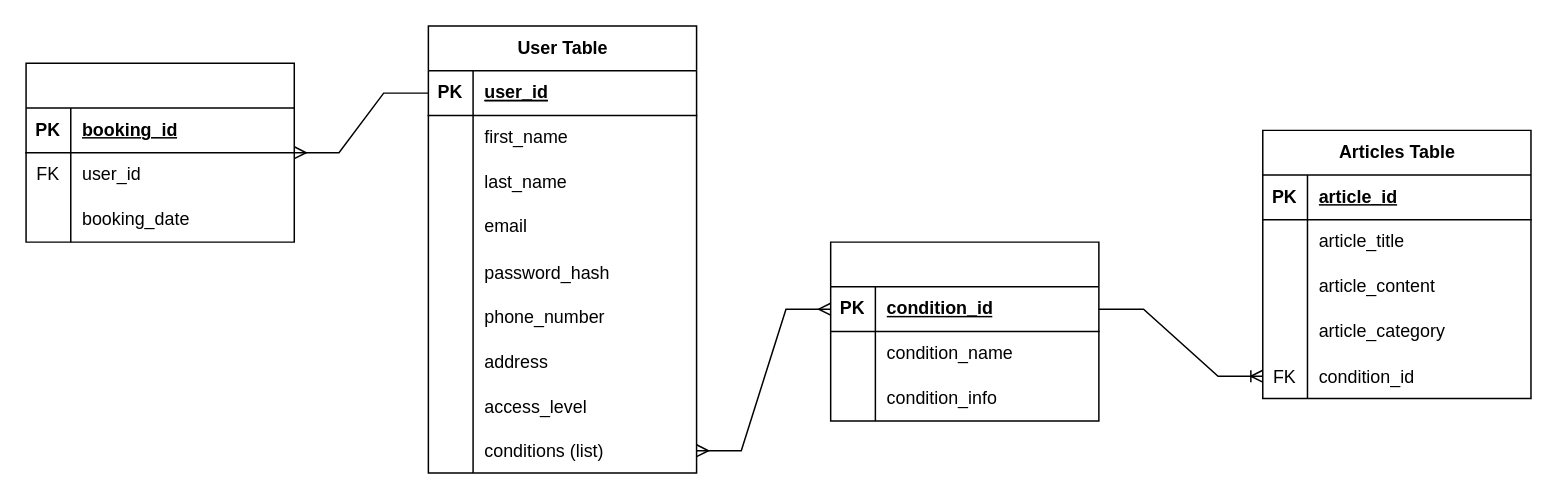
This 1557x499 diagram has some shape labels left out. Each missing label, with the box of its shape:
Booking Table: (25, 62, 294, 242)
Conditions Table: (829, 241, 1099, 421)
